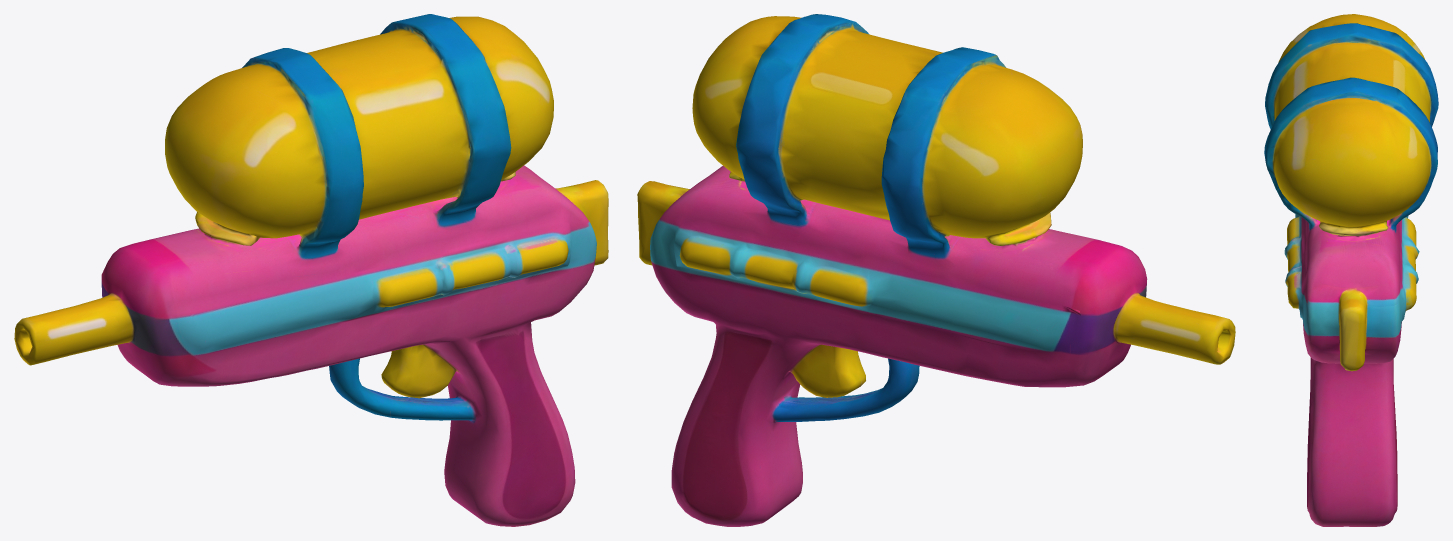
File: WaterGun.fbx
3 renders of one model, left to right at view 1: azimuth 30°, elevation 25°; view 2: azimuth 150°, elevation 25°; view 3: azimuth 270°, elevation 25°, orthographic. The views are drawn at different scales.
Visible parts, largest first — view 1: Mesh_0; view 2: Mesh_0; view 3: Mesh_0.
Boxes of the visible parts, x1,y1,x2,y2 form: Mesh_0: (14,14,608,526); Mesh_0: (637,14,1235,526); Mesh_0: (1264,14,1438,526).
Bounding box in the file's own units: 200 × 166 × 64.42.
Materials: 1 (1 with a texture image).
